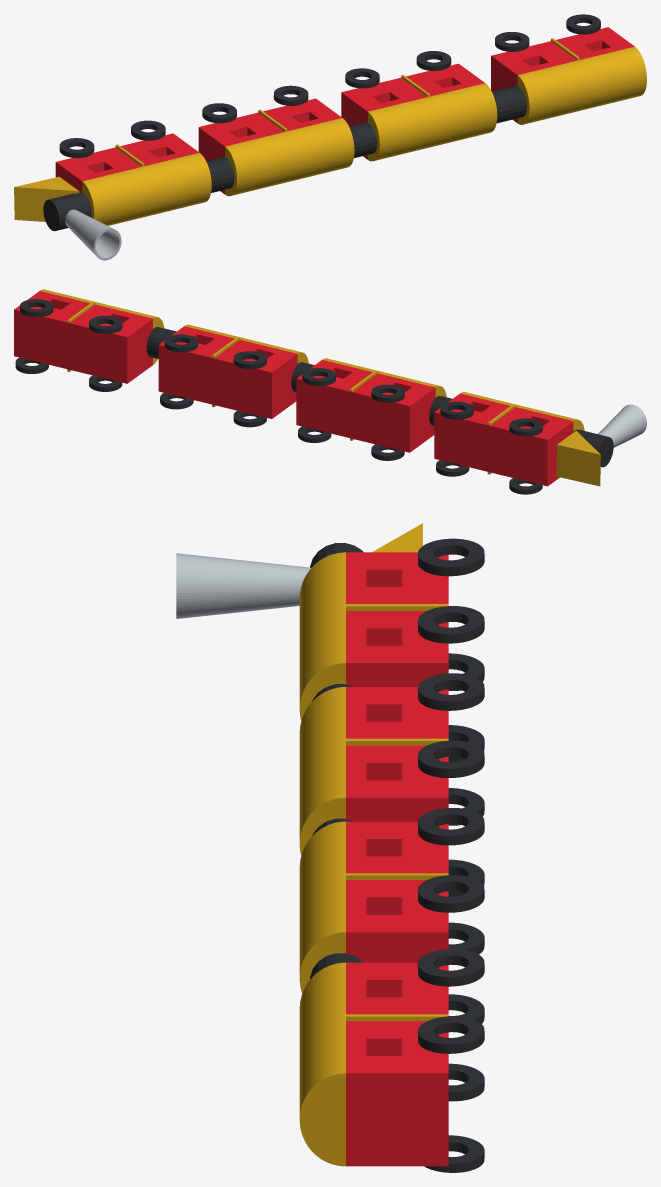
The model's file is tinker.obj.
3 renders of one model, top to bottom at view 1: azimuth 30°, elevation 25°; view 2: azimuth 150°, elevation 25°; view 3: azimuth 270°, elevation 25°, orthographic. The views are drawn at different scales.
Visible parts, largest first — view 1: group_0_14527511, group_0_15277357, group_0_2829873, group_0_12568524; view 2: group_0_15277357, group_0_2829873, group_0_14527511, group_0_12568524; view 3: group_0_15277357, group_0_14527511, group_0_2829873, group_0_12568524.
Boxes of the visible parts, x1=… form: group_0_14527511: x1=14, y1=38, x2=646, y2=225; group_0_15277357: x1=55, y1=27, x2=634, y2=194; group_0_2829873: x1=43, y1=14, x2=600, y2=231; group_0_12568524: x1=65, y1=209, x2=121, y2=260; group_0_15277357: x1=14, y1=291, x2=573, y2=486; group_0_2829873: x1=15, y1=299, x2=613, y2=494; group_0_14527511: x1=40, y1=289, x2=600, y2=486; group_0_12568524: x1=598, y1=404, x2=646, y2=447; group_0_15277357: x1=346, y1=552, x2=448, y2=1166; group_0_14527511: x1=299, y1=523, x2=448, y2=1166; group_0_2829873: x1=310, y1=538, x2=484, y2=1172; group_0_12568524: x1=176, y1=553, x2=311, y2=618.
Size of the model in its own units: 261 by 27 by 60.
